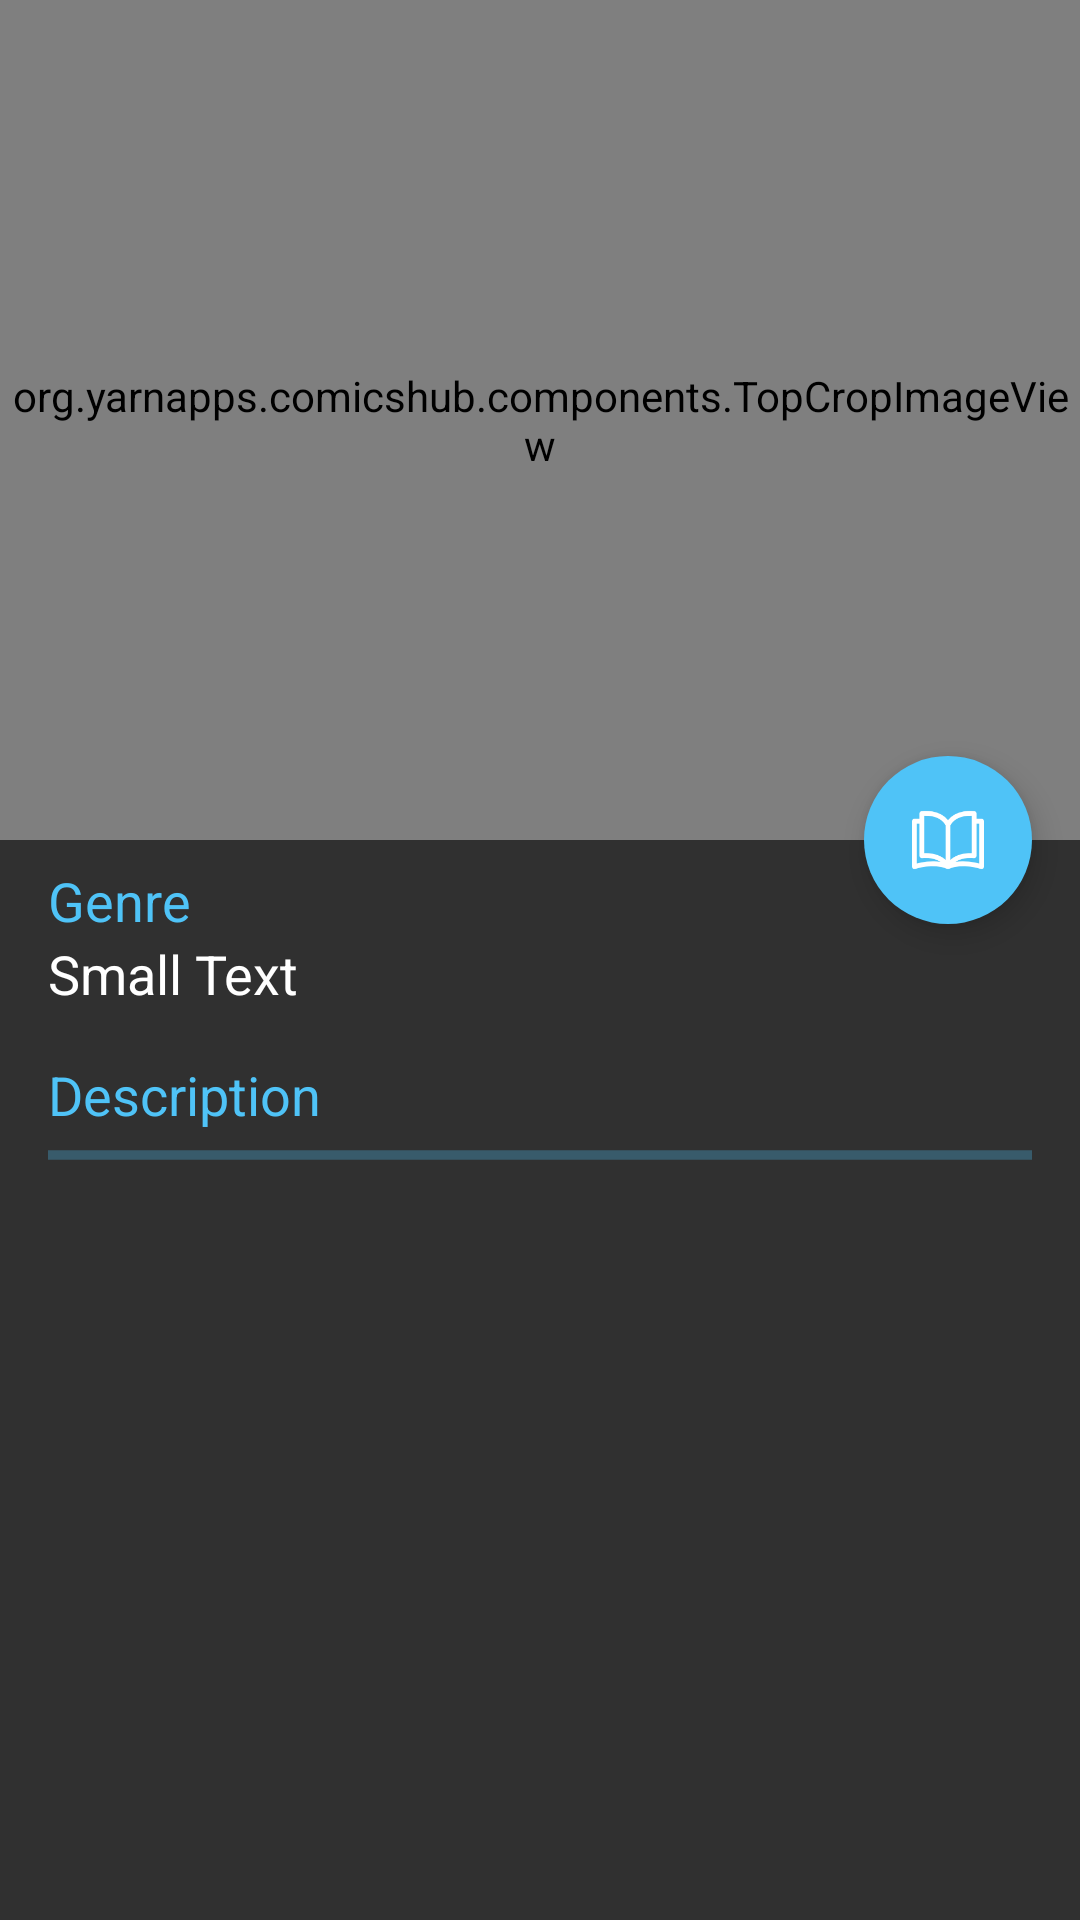

Named icons in this screenshot (1080 x 1920) and their centers, (x,y):
fab read: (948,840)
